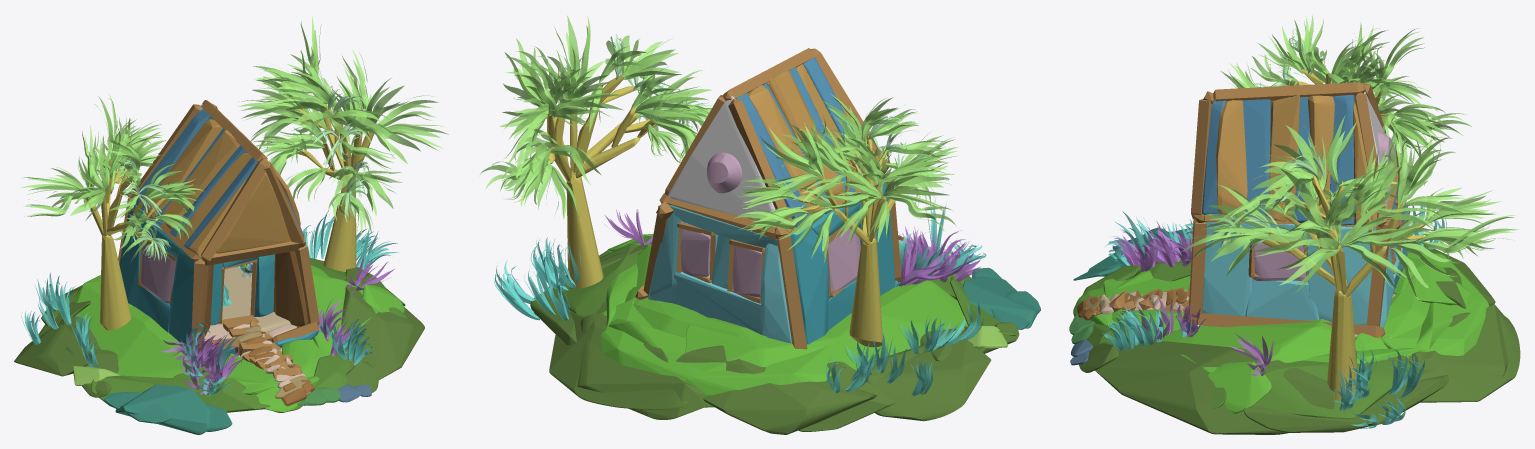
3 renders of one model, left to right at view 1: azimuth 30°, elevation 25°; view 2: azimuth 150°, elevation 25°; view 3: azimuth 270°, elevation 25°, orthographic. The views are drawn at different scales.
Parts seen in each view (by area): view 1: brush_ShinyHull, brush_Petal, brush_ShinyHull_02, brush_DiamondHull; view 2: brush_ShinyHull, brush_Petal, brush_ShinyHull_02, brush_DiamondHull; view 3: brush_ShinyHull, brush_Petal, brush_ShinyHull_02, brush_DiamondHull.
Part boxes in pixels (<box>): brush_ShinyHull: <box>73,100,407,412</box>; brush_Petal: <box>21,16,448,396</box>; brush_ShinyHull_02: <box>14,95,424,434</box>; brush_DiamondHull: <box>140,119,300,303</box>; brush_ShinyHull: <box>545,48,967,407</box>; brush_Petal: <box>480,15,986,396</box>; brush_ShinyHull_02: <box>530,74,1040,434</box>; brush_DiamondHull: <box>680,64,886,297</box>; brush_ShinyHull: <box>1073,82,1489,419</box>; brush_Petal: <box>1101,15,1518,428</box>; brush_ShinyHull_02: <box>1069,69,1520,434</box>; brush_DiamondHull: <box>1216,94,1402,280</box>.
Size of the model in its own units: 1.93 by 1.12 by 1.56.
Materials: 7 (4 with a texture image).
